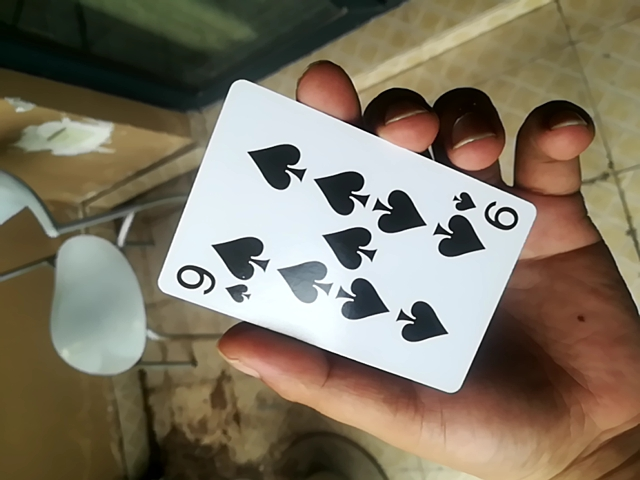ht 9: (154, 77, 532, 398)
